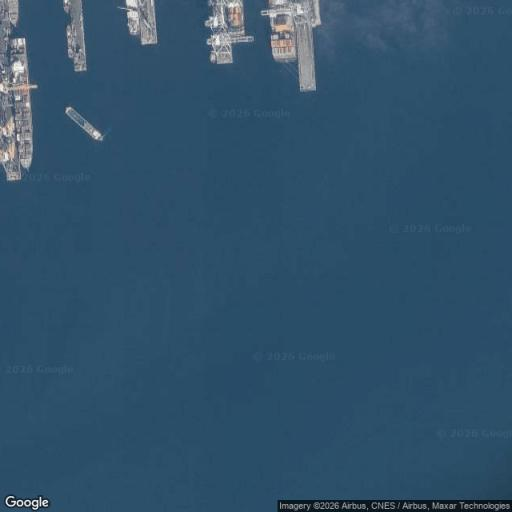ship: (11, 37, 33, 170), (268, 0, 297, 63), (66, 107, 103, 140), (226, 0, 245, 36), (126, 0, 139, 35), (8, 1, 20, 27), (66, 25, 73, 58), (62, 0, 70, 15)
